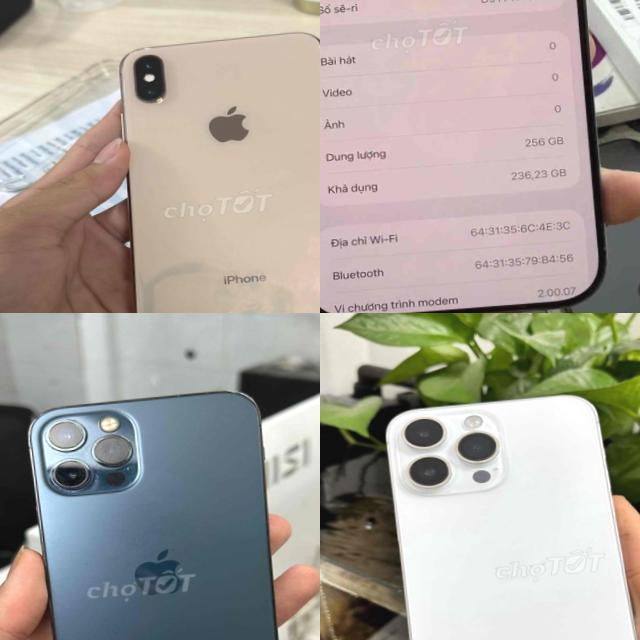gen_12_13: (14, 373, 302, 640)
gen_14: (365, 376, 640, 640)
gen_17: (320, 0, 625, 313)
gen_x_xs: (117, 27, 320, 313)
